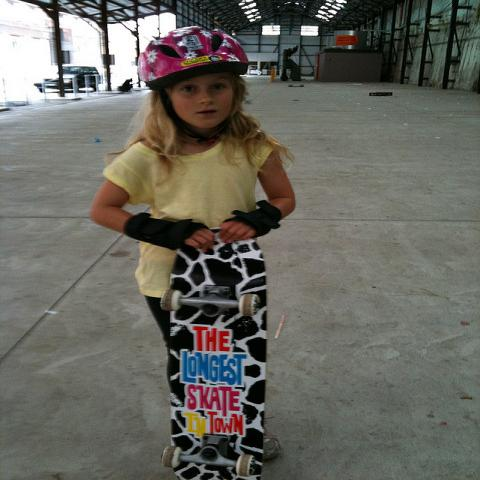car: (34, 66, 101, 93)
